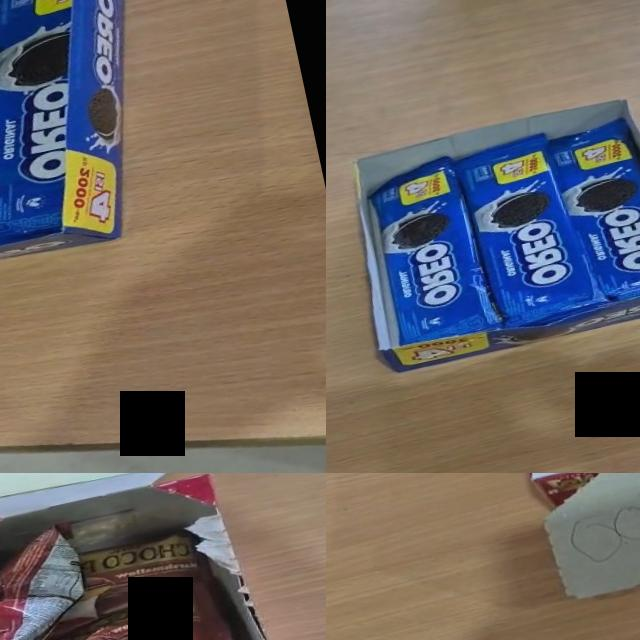Chocopie: (28, 526, 215, 640), (0, 578, 249, 640), (0, 520, 100, 640)
Oreo: (453, 124, 616, 334), (0, 0, 129, 253), (360, 150, 505, 349), (544, 110, 640, 310)
